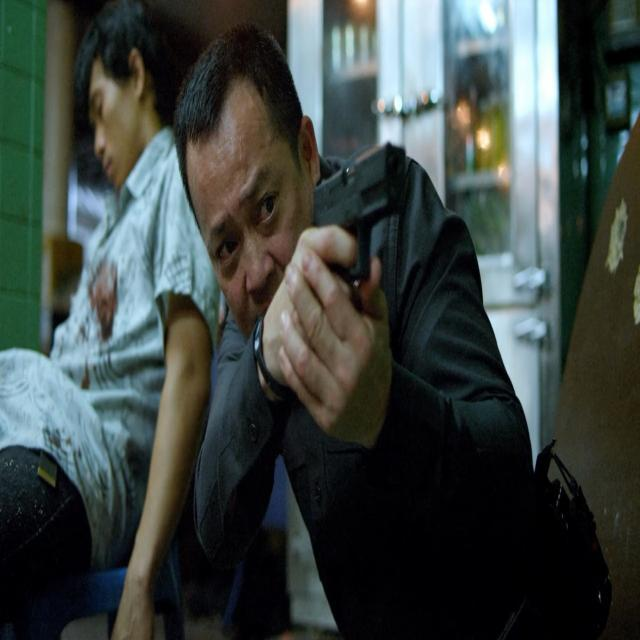gun-knife-thesis - v11 Yolov5 augmented: (294, 124, 408, 410)
